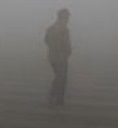person: (43, 8, 75, 109)
